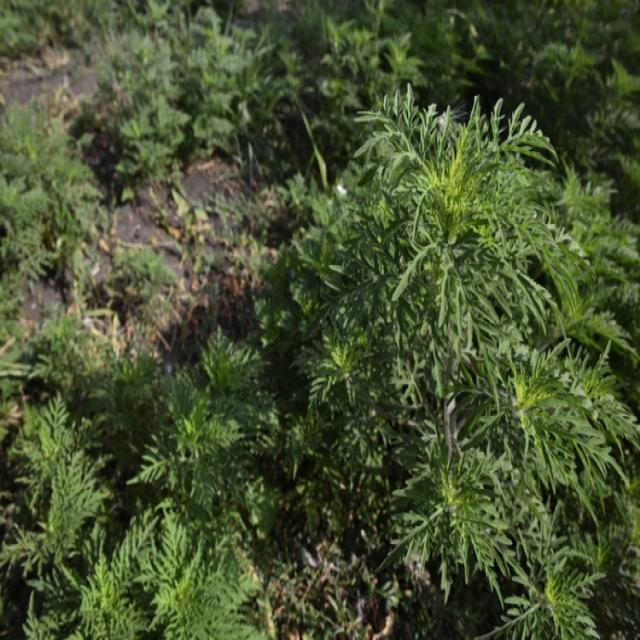ambrosia: (328, 112, 598, 584), (9, 411, 242, 640)
